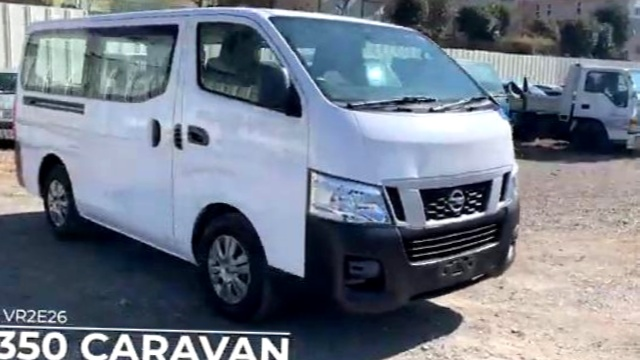van: (8, 0, 529, 323)
